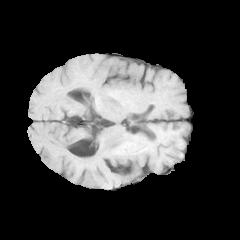glioma: (78, 132, 159, 166)
